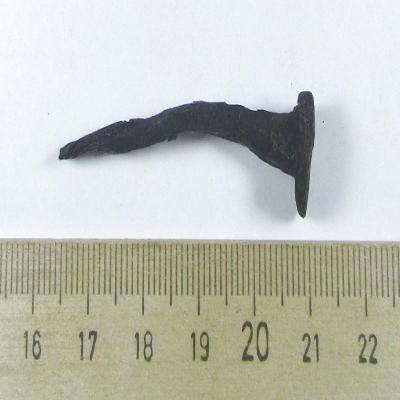archeology: (57, 91, 316, 219)
